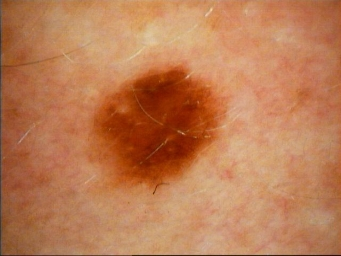nevus: (90, 69, 222, 177)
